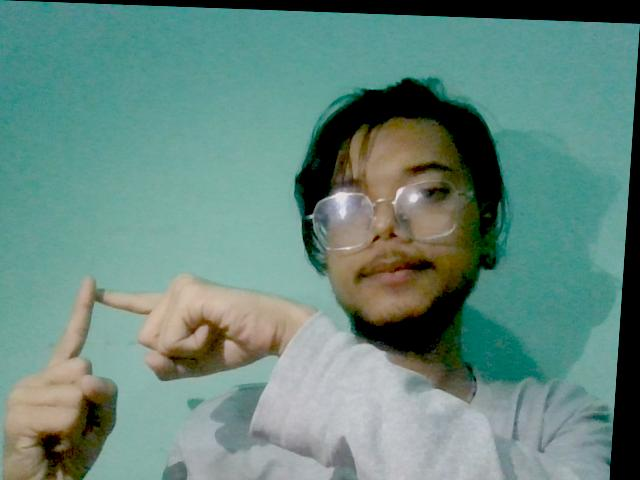When: (0, 253, 322, 480)
